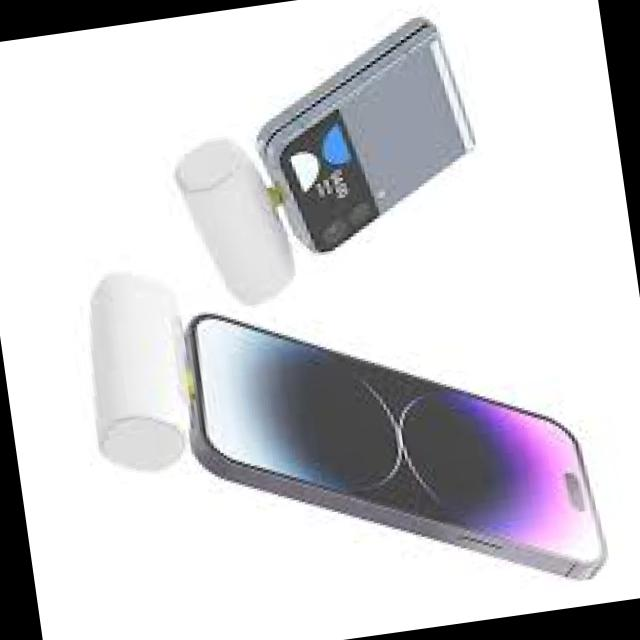power_bank: (69, 262, 208, 480), (167, 130, 301, 319)
